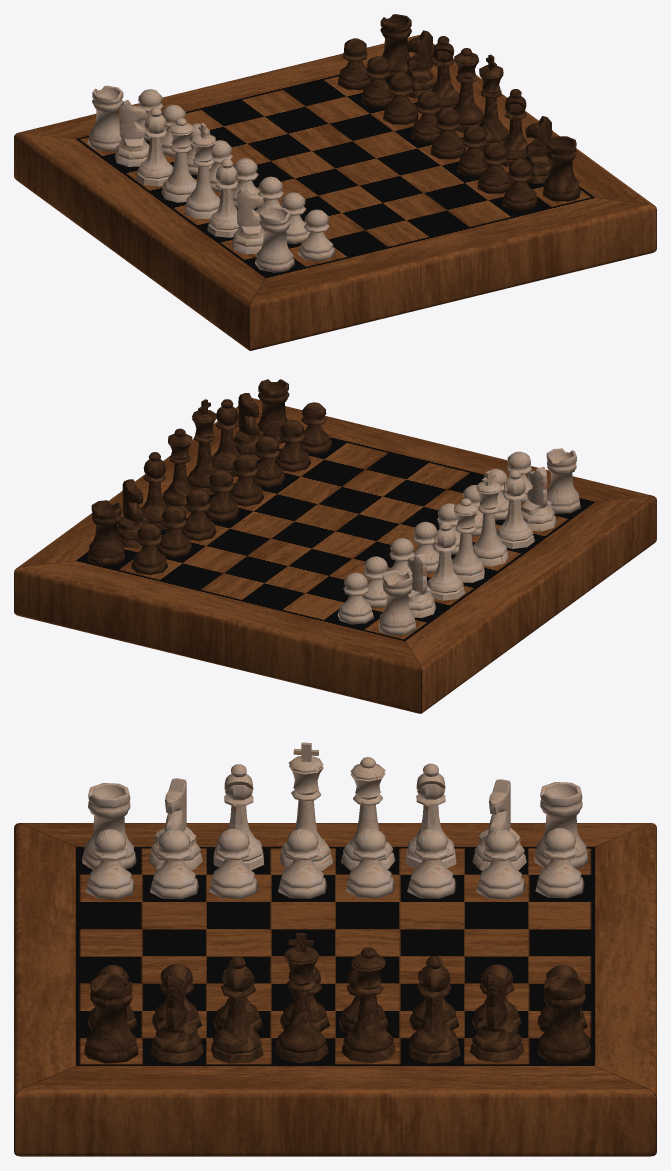
The model's file is sportscomplex.glb.
The picture shows the model from 3 angles, top to bottom: view 1: azimuth 30°, elevation 25°; view 2: azimuth 150°, elevation 25°; view 3: azimuth 270°, elevation 25°; orthographic projection. The views are drawn at different scales.
Visible parts, largest first — view 1: ChessBoard_0, WhiteRook_6, WhiteKing_10, BlackRook.001_14, WhiteRook.001_17, WhiteQueen_5, WhiteBishop.001_15, WhiteKnight.001_16, WhiteKnight_3, WhiteBishop_8, BlackKing_11, BlackQueen_7 (+20 smaller); view 2: ChessBoard_0, WhiteKing_10, WhiteRook.001_17, BlackRook_2, WhiteRook_6, WhiteQueen_5, WhiteBishop.001_15, WhiteBishop_8, BlackKing_11, BlackQueen_7, WhiteKnight_3, BlackRook.001_14 (+20 smaller); view 3: ChessBoard_0, BlackKing_11, BlackRook_2, BlackRook.001_14, BlackQueen_7, BlackBishop.001_12, BlackBishop_4, BlackKnight.001_13, BlackKnight_9, WhiteKing_10, WhiteRook.001_17, WhiteRook_6 (+21 smaller).
Boxes of the visible parts, x1,y1,x2,y2 form: ChessBoard_0: (14,35,656,350); WhiteRook_6: (255,206,294,272); WhiteKing_10: (185,123,220,218); BlackRook.001_14: (542,136,580,201); WhiteRook.001_17: (87,85,123,151); WhiteQueen_5: (161,118,196,202); WhiteBishop.001_15: (136,107,173,186); WhiteKnight.001_16: (114,100,149,166); WhiteKnight_3: (232,187,263,254); WhiteBishop_8: (207,159,239,237); BlackKing_11: (479,54,508,149); BlackQueen_7: (453,48,483,132); ChessBoard_0: (14,398,656,713); WhiteKing_10: (473,470,508,566); WhiteRook.001_17: (378,570,416,635); BlackRook_2: (87,500,125,565); WhiteRook_6: (546,448,580,513); WhiteQueen_5: (451,498,484,582); WhiteBishop.001_15: (427,521,464,600); WhiteBishop_8: (496,470,534,548); BlackKing_11: (187,399,216,495); BlackQueen_7: (162,428,193,513); WhiteKnight_3: (521,466,556,531); BlackRook.001_14: (257,379,289,443); ChessBoard_0: (14,823,656,1156); BlackKing_11: (274,933,328,1063); BlackRook_2: (537,974,591,1063); BlackRook.001_14: (84,974,138,1063); BlackQueen_7: (341,947,395,1063); BlackBishop.001_12: (211,956,263,1063); BlackBishop_4: (408,956,460,1063); BlackKnight.001_13: (149,976,203,1063); BlackKnight_9: (470,975,524,1062); WhiteKing_10: (279,742,332,870); WhiteRook.001_17: (534,782,588,868); WhiteRook_6: (82,783,136,869).
Size of the model in its own units: 2.91 by 0.9199 by 2.91.
4 materials, 3 textured.
